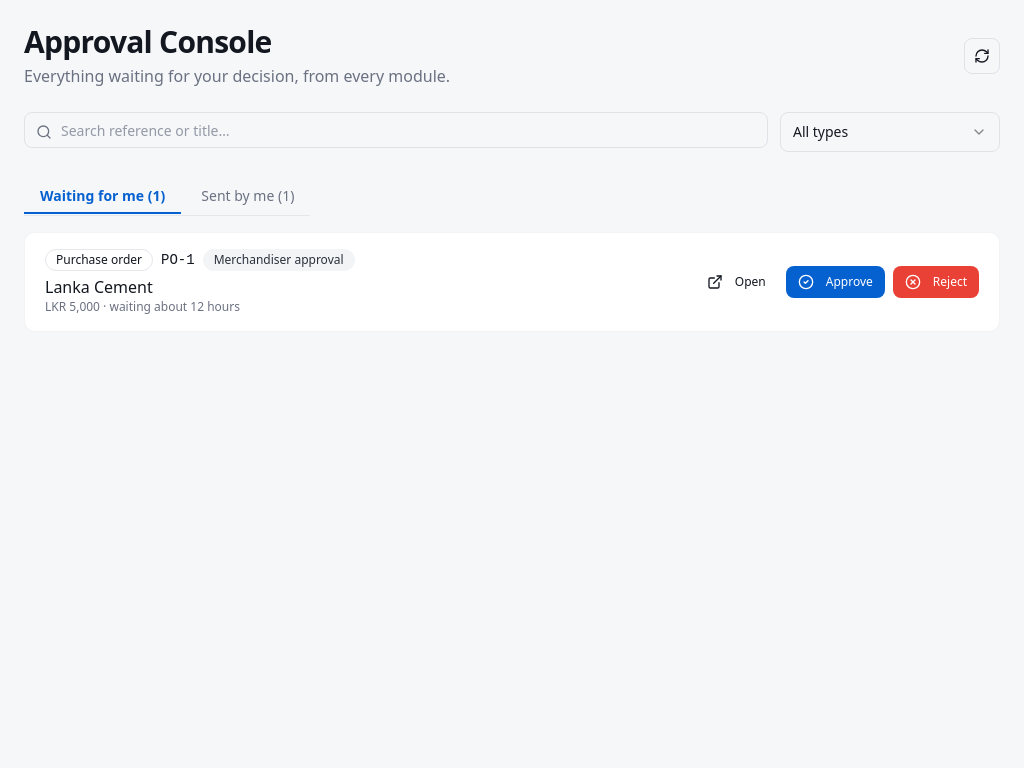
Test case: Approval console › approves what is waiting, and rejecting needs a reason
Later steps or results of the test are not shown.
expect the tab "Waiting for me (1)" is shown: met, box [24,178,181,214]
Click the button "Approve" at (835, 282), box [786,266,885,298]
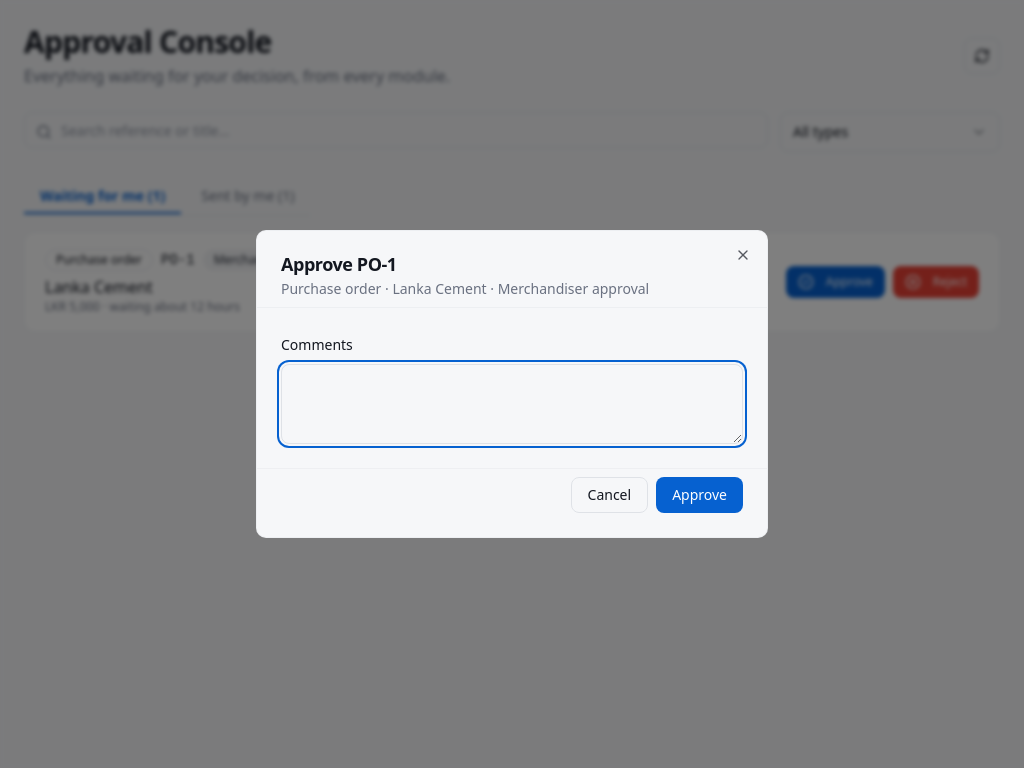
Click the button "Approve" at (700, 495), box [656,477,743,513]
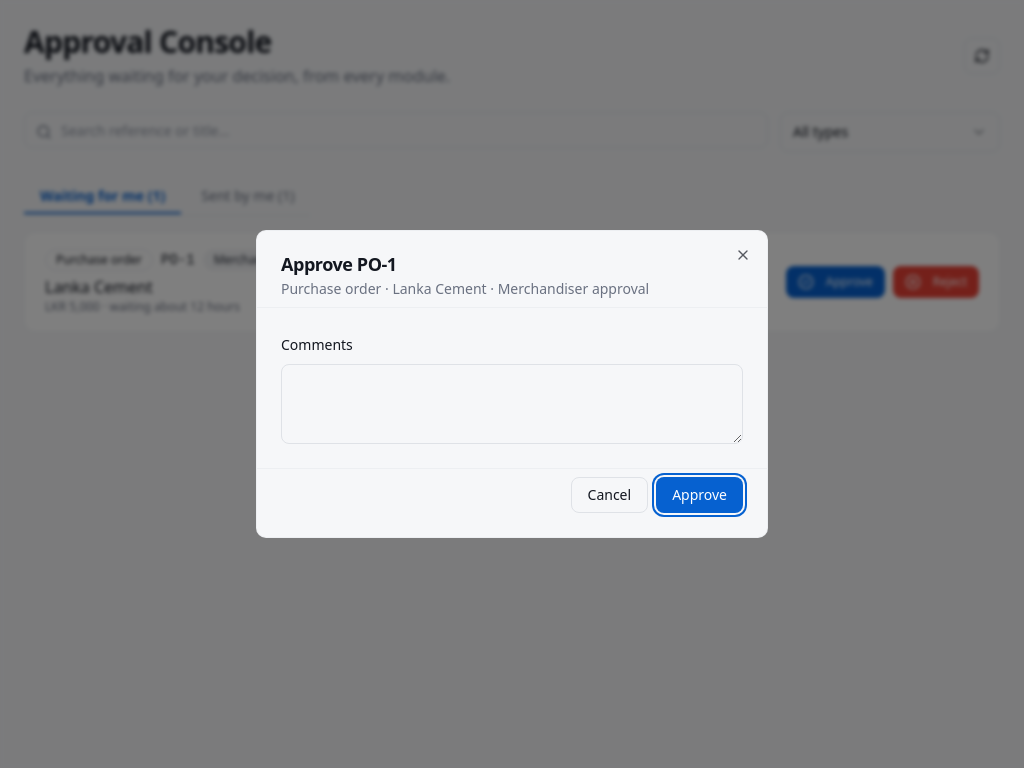
Press Escape
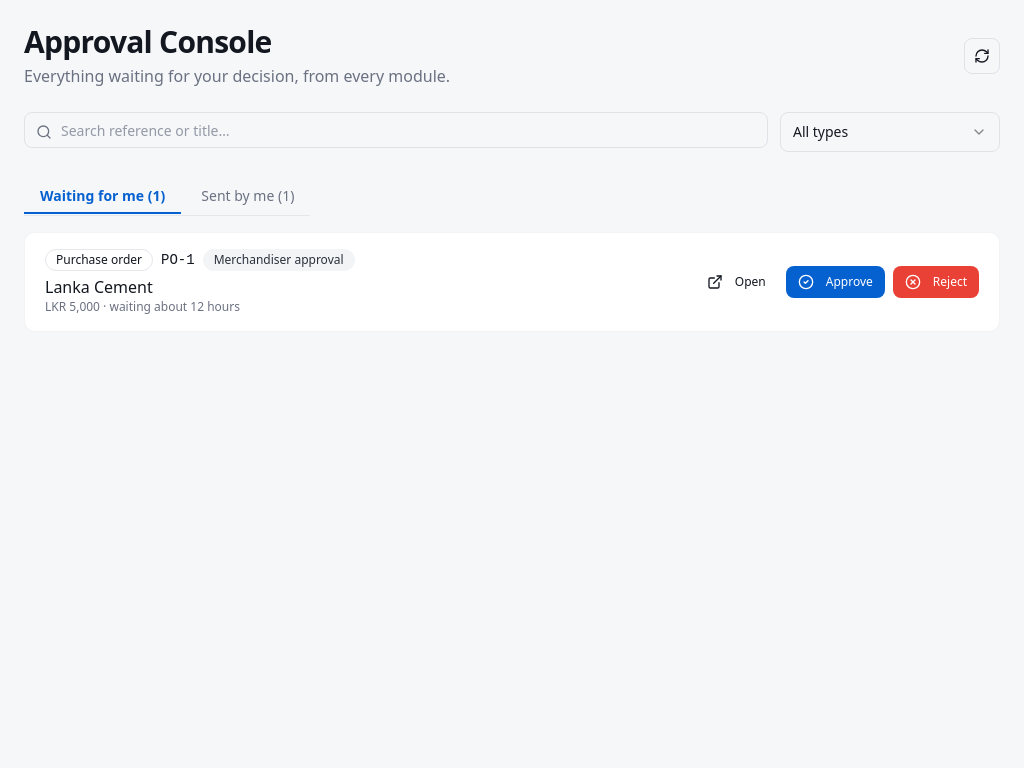
Click the button "Reject" at (936, 282), box [893,266,979,298]
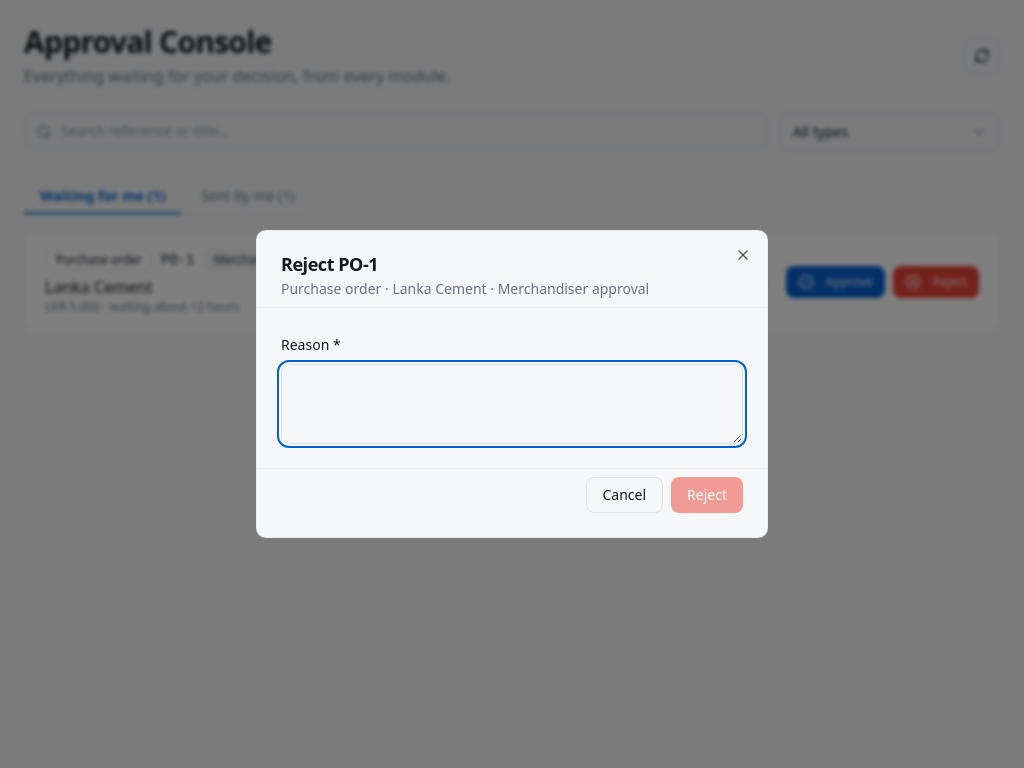
expect the button "Reject" is disabled: met, box [671,477,743,513]
